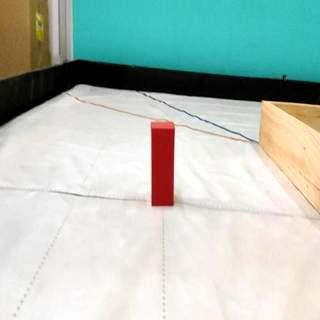redbox: (150, 120, 175, 208)
